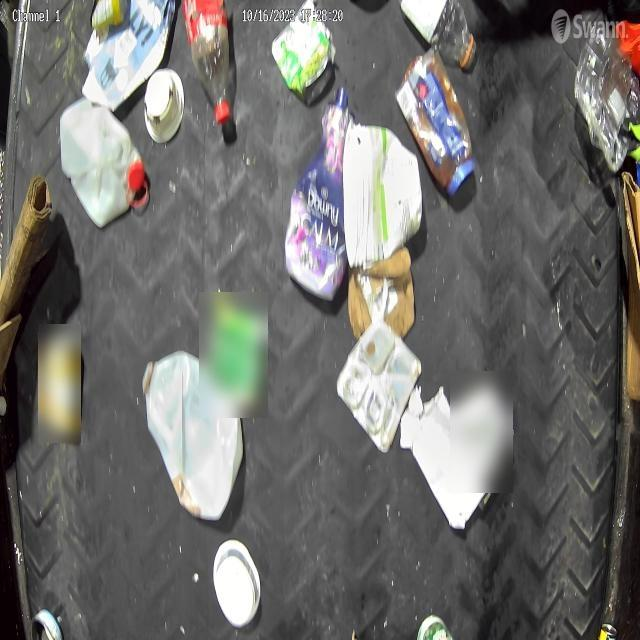milk_jug: (138, 352, 242, 520), (58, 83, 148, 231)
non_white_jug: (286, 83, 353, 313)
plastic_bottle: (181, 0, 234, 144)
